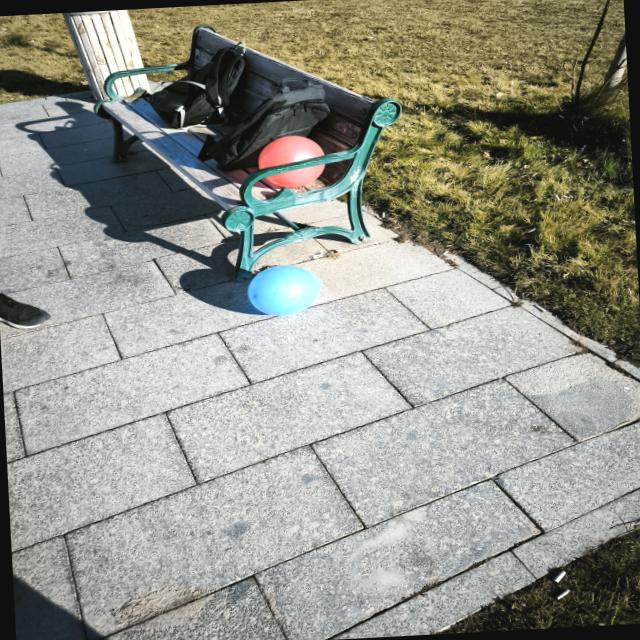balloon: (248, 266, 322, 316), (258, 136, 324, 169), (268, 165, 324, 188)
